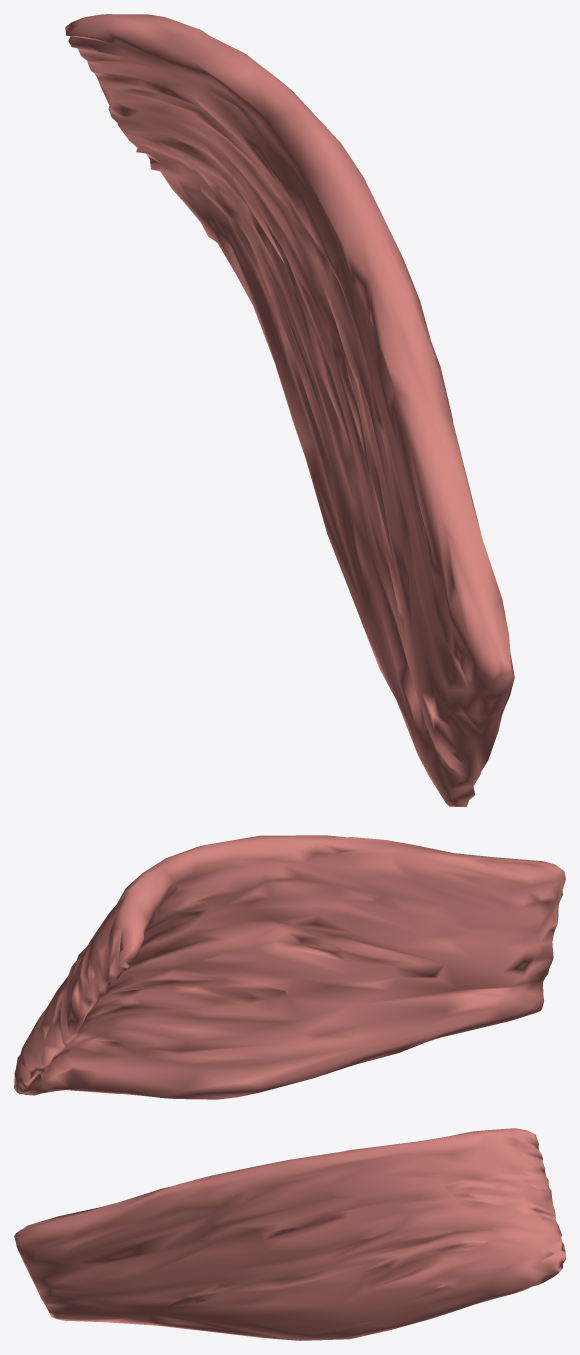
3 renders of one model, top to bottom at view 1: azimuth 30°, elevation 25°; view 2: azimuth 150°, elevation 25°; view 3: azimuth 270°, elevation 25°, orthographic. The views are drawn at different scales.
Parts seen in each view (by area): view 1: ZA_b62e0f0be052fcdf; view 2: ZA_b62e0f0be052fcdf; view 3: ZA_b62e0f0be052fcdf.
Part boxes in pixels (x1,y1,x2,y2): ZA_b62e0f0be052fcdf: (65, 14, 514, 806); ZA_b62e0f0be052fcdf: (14, 835, 565, 1099); ZA_b62e0f0be052fcdf: (14, 1128, 565, 1340).
Bounding box in the file's own units: 0.00597 × 0.00921 × 0.0208.
